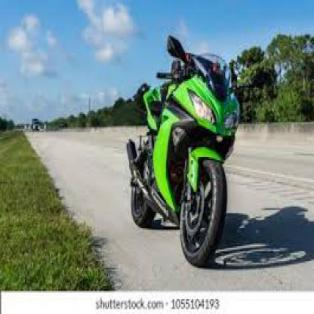Motocicleta: (125, 31, 249, 265)
